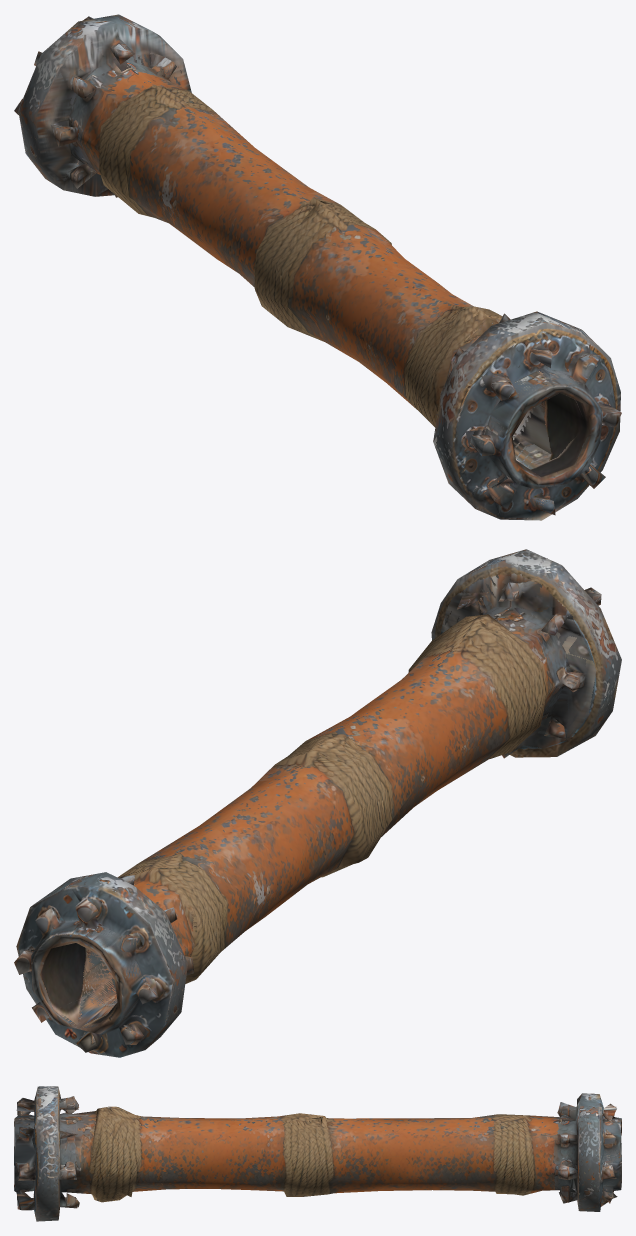
The model's file is PR_SteamPipe.fbx.
3 renders of one model, top to bottom at view 1: azimuth 30°, elevation 25°; view 2: azimuth 150°, elevation 25°; view 3: azimuth 270°, elevation 25°, orthographic. The views are drawn at different scales.
Visible parts, largest first — view 1: texture_mapping; view 2: texture_mapping; view 3: texture_mapping.
Part boxes in pixels (x1,y1,x2,y2): texture_mapping: [14, 14, 621, 520]; texture_mapping: [14, 549, 621, 1057]; texture_mapping: [14, 1086, 621, 1221].
Bounding box in the file's own units: 0.2102 × 0.992 × 0.227.
Materials: 1 (1 with a texture image).
